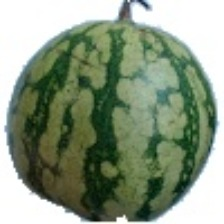watermelon: (58, 34, 194, 176)
